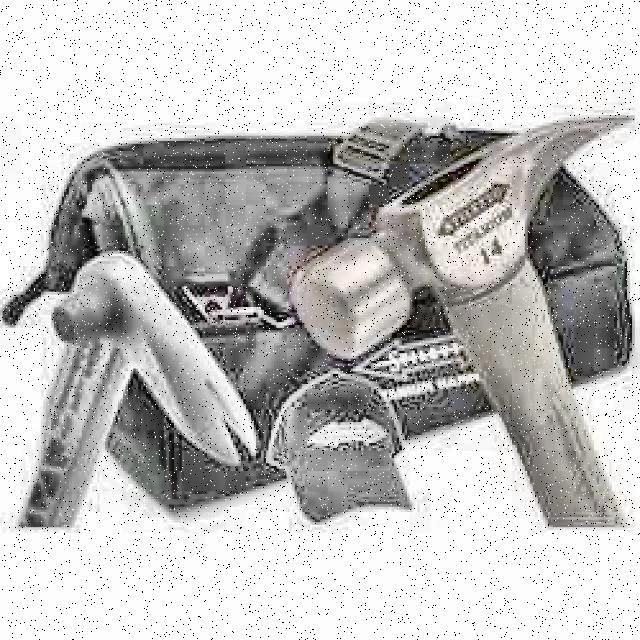hammer: (292, 112, 636, 549)
